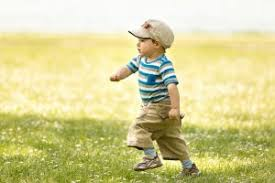child: (114, 18, 208, 179)
